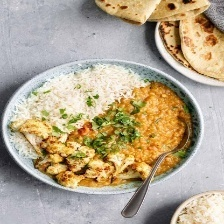rice: (7, 63, 141, 123)
